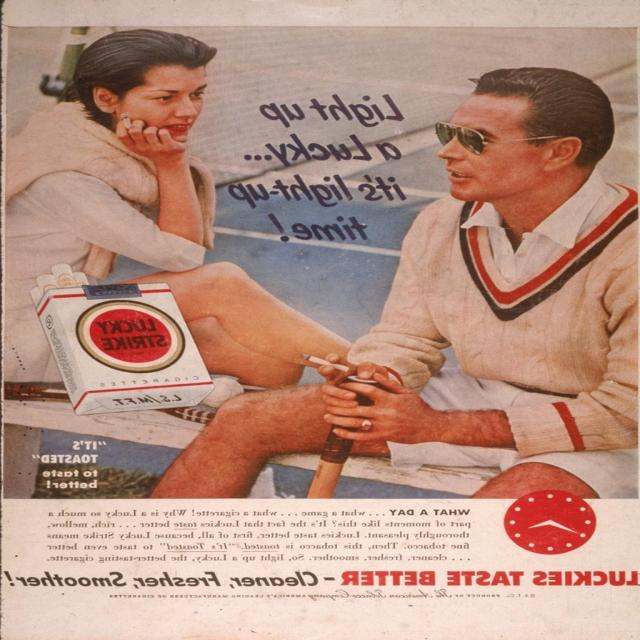smoking: (298, 62, 640, 436)
